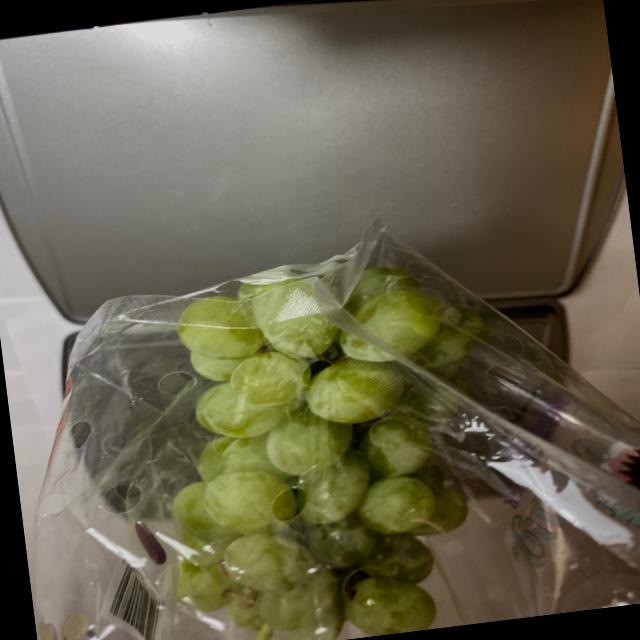grapes: (141, 275, 519, 640)
